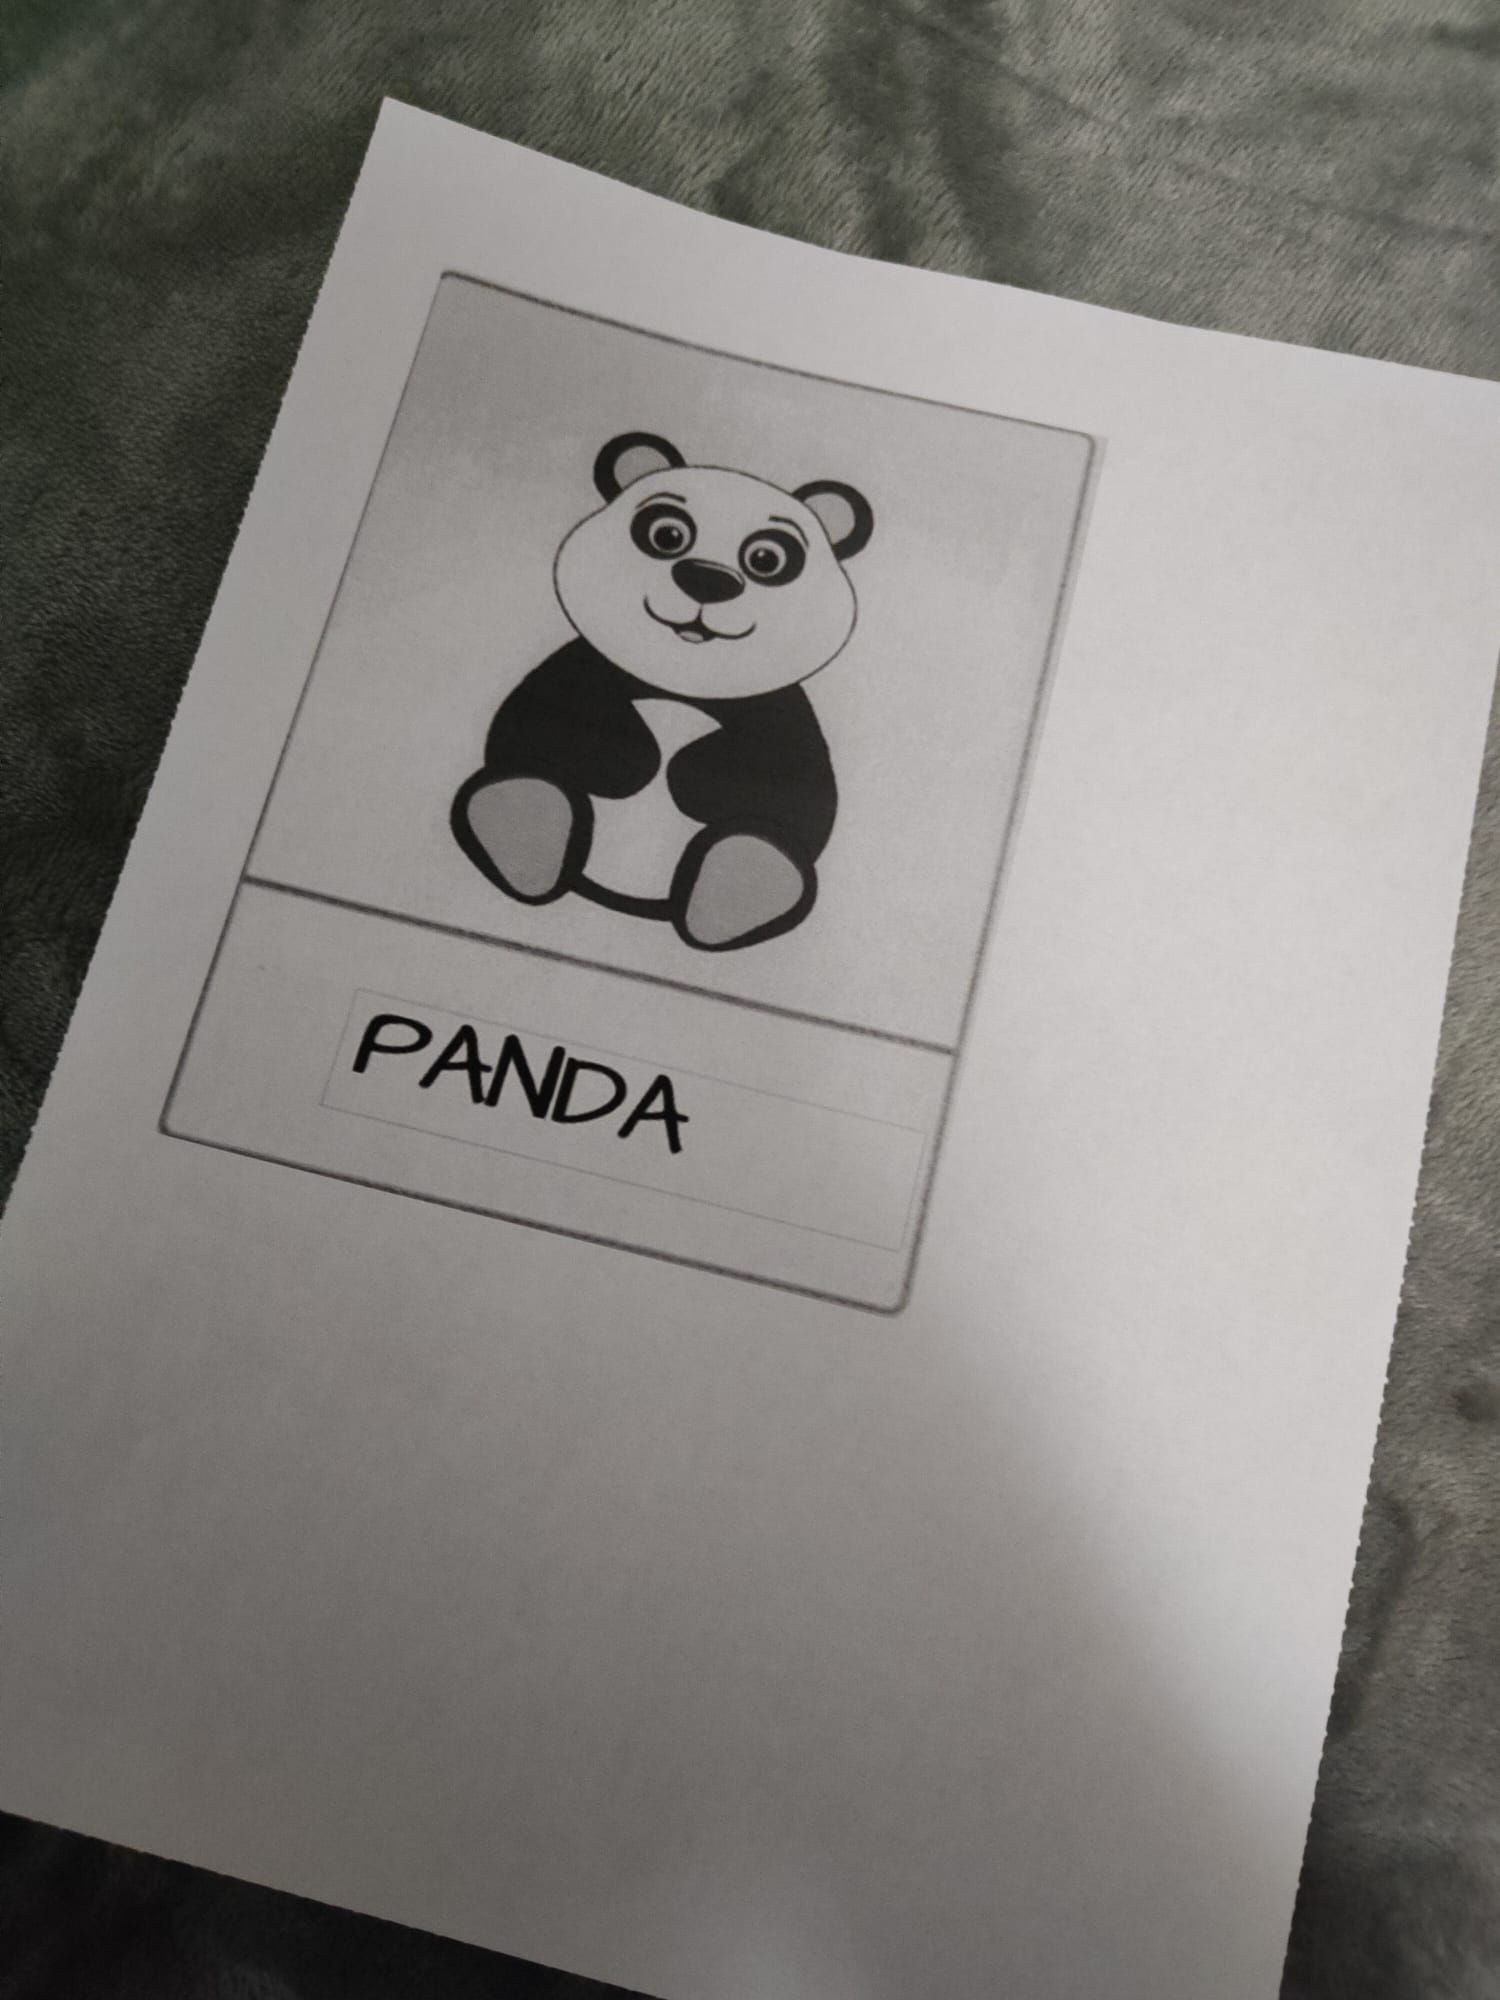panda: (333, 249, 1006, 1293)
